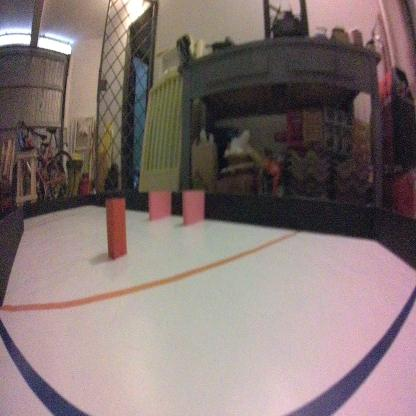magenta: (180, 186, 206, 234), (147, 189, 172, 220)
red: (104, 195, 125, 261)
